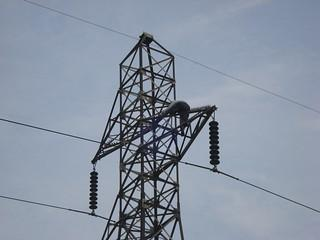power_tower: (77, 32, 227, 240)
